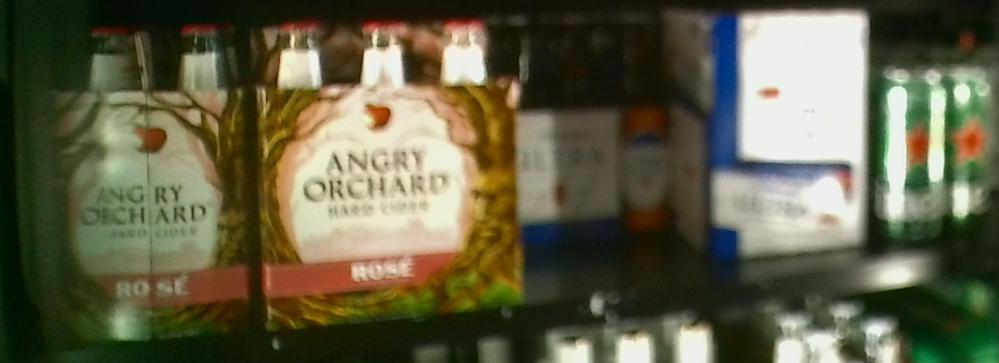bottle: (254, 11, 523, 332), (36, 20, 253, 360), (665, 8, 873, 261), (520, 11, 665, 249), (877, 64, 949, 243)
